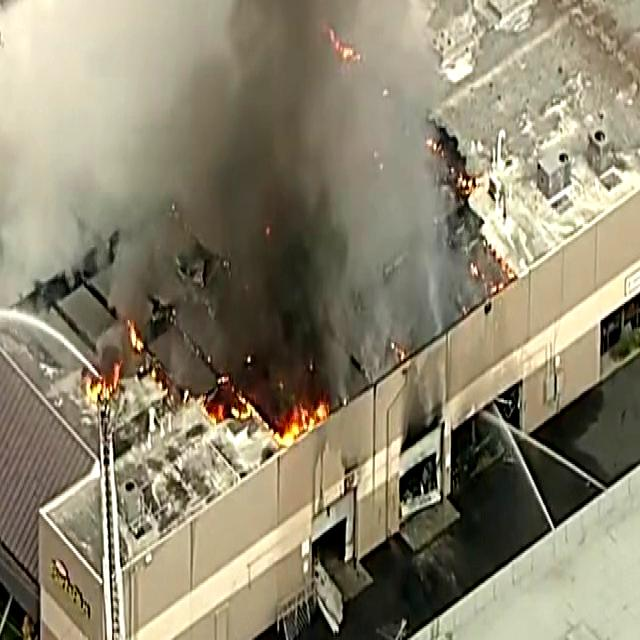smoke: (237, 0, 336, 325)
